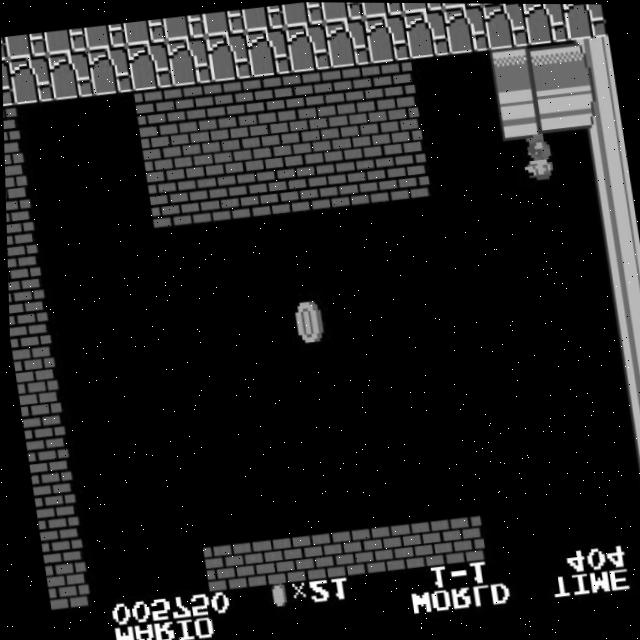1- brick_block: (396, 516, 444, 568), (178, 126, 226, 177), (376, 103, 424, 154), (218, 121, 265, 173), (317, 525, 364, 577), (251, 71, 298, 123), (337, 107, 384, 159), (330, 62, 377, 114), (436, 511, 483, 563), (40, 559, 87, 610), (199, 540, 246, 591), (139, 131, 186, 182), (132, 86, 179, 137), (238, 535, 285, 586), (172, 81, 219, 132), (278, 530, 325, 581), (211, 76, 258, 127), (258, 117, 305, 168), (357, 521, 404, 572), (304, 158, 351, 209), (297, 112, 344, 163), (291, 67, 338, 118), (344, 153, 391, 204), (370, 58, 417, 109), (27, 468, 74, 518), (146, 177, 193, 227), (185, 172, 232, 222), (225, 168, 272, 218), (264, 163, 311, 213), (383, 149, 430, 199), (21, 423, 67, 474), (14, 377, 60, 428), (34, 514, 80, 564), (8, 332, 54, 382), (7, 286, 47, 337), (6, 240, 40, 291), (5, 196, 34, 246), (3, 150, 27, 200), (2, 105, 21, 156)
11- little_mario: (511, 131, 562, 184)
14- pipe: (580, 126, 628, 177), (535, 84, 582, 135), (528, 39, 575, 90), (587, 171, 634, 222), (567, 35, 614, 86), (574, 81, 621, 131), (594, 217, 640, 268), (600, 262, 640, 313), (607, 306, 640, 358), (613, 353, 640, 404), (620, 399, 640, 449), (626, 444, 640, 494), (633, 489, 640, 540)
15- pipe_head: (488, 44, 536, 95), (495, 89, 542, 140)
17- undestructible_block: (323, 16, 371, 68), (125, 40, 173, 91), (46, 49, 93, 101), (86, 44, 133, 96), (403, 7, 450, 59), (7, 54, 54, 105), (165, 35, 212, 86), (205, 31, 252, 82), (244, 26, 291, 77), (284, 21, 331, 72), (363, 12, 410, 63), (442, 3, 489, 54), (482, 3, 529, 49), (521, 3, 568, 44), (561, 3, 608, 41), (241, 3, 285, 32), (43, 27, 87, 55), (122, 18, 166, 46), (4, 32, 47, 60), (83, 22, 126, 50), (162, 13, 205, 41), (202, 8, 245, 36), (281, 2, 325, 27), (320, 2, 363, 22), (1, 59, 14, 110), (360, 2, 403, 17), (400, 2, 443, 13), (439, 3, 482, 9)
2- coin: (284, 299, 331, 350)
